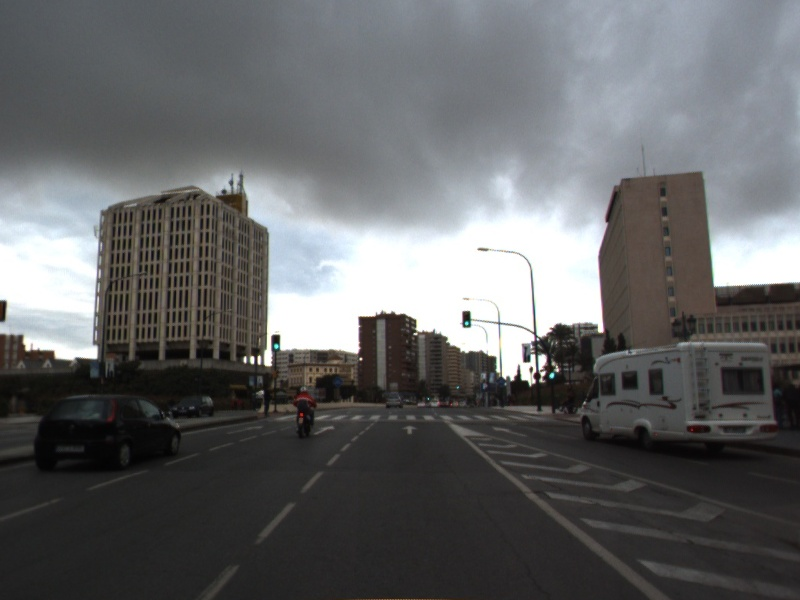STRAIGHT: (490, 424, 531, 439), (224, 423, 266, 437), (312, 423, 337, 436), (400, 423, 420, 436)
